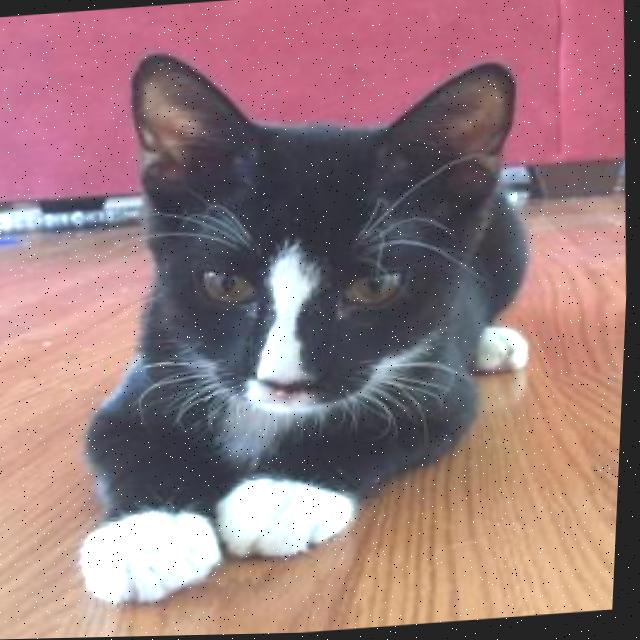Tuxedo: (49, 22, 570, 615)
